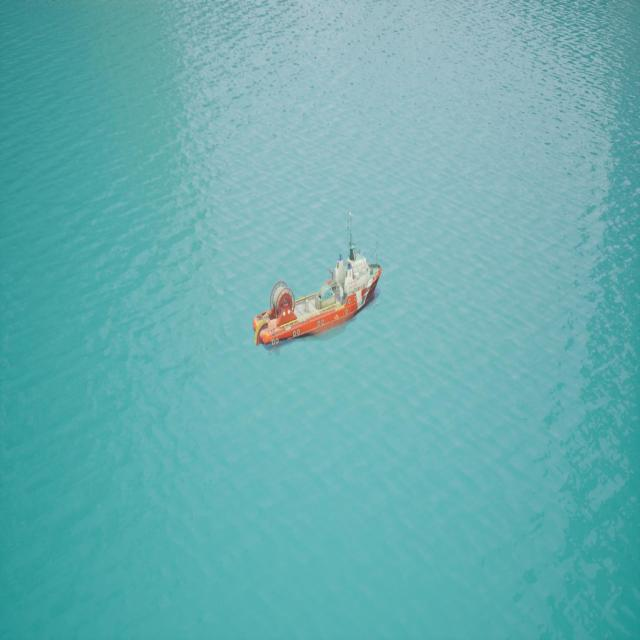tug boat: (257, 246, 385, 349)
